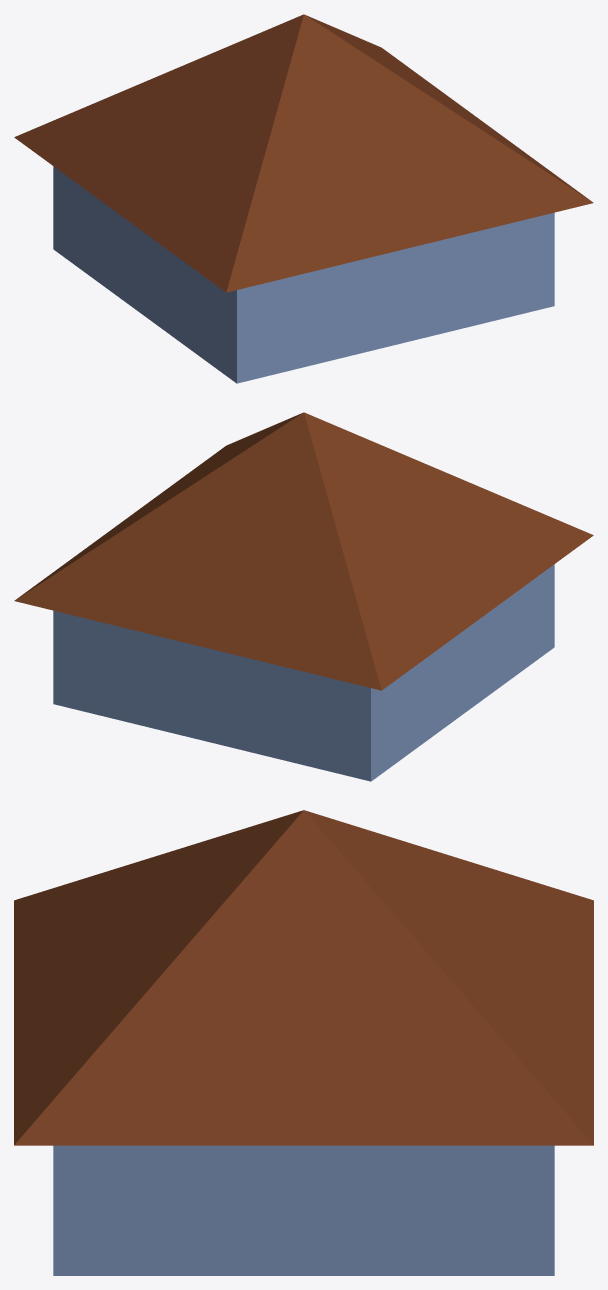
The model's file is house1.fbx.
3 renders of one model, top to bottom at view 1: azimuth 30°, elevation 25°; view 2: azimuth 150°, elevation 25°; view 3: azimuth 270°, elevation 25°, orthographic. The views are drawn at different scales.
Visible parts, largest first — view 1: house1; view 2: house1; view 3: house1.
Boxes of the visible parts, x1=… form: house1: x1=14, y1=14, x2=593, y2=383; house1: x1=14, y1=412, x2=593, y2=781; house1: x1=14, y1=810, x2=593, y2=1275.
Bounding box in the file's own units: 2315 × 1585 × 2315.
